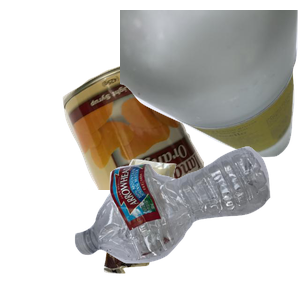glass: (120, 10, 300, 160)
metal: (60, 58, 300, 238)
plastic: (72, 144, 300, 300)
trash: (101, 157, 270, 300)
